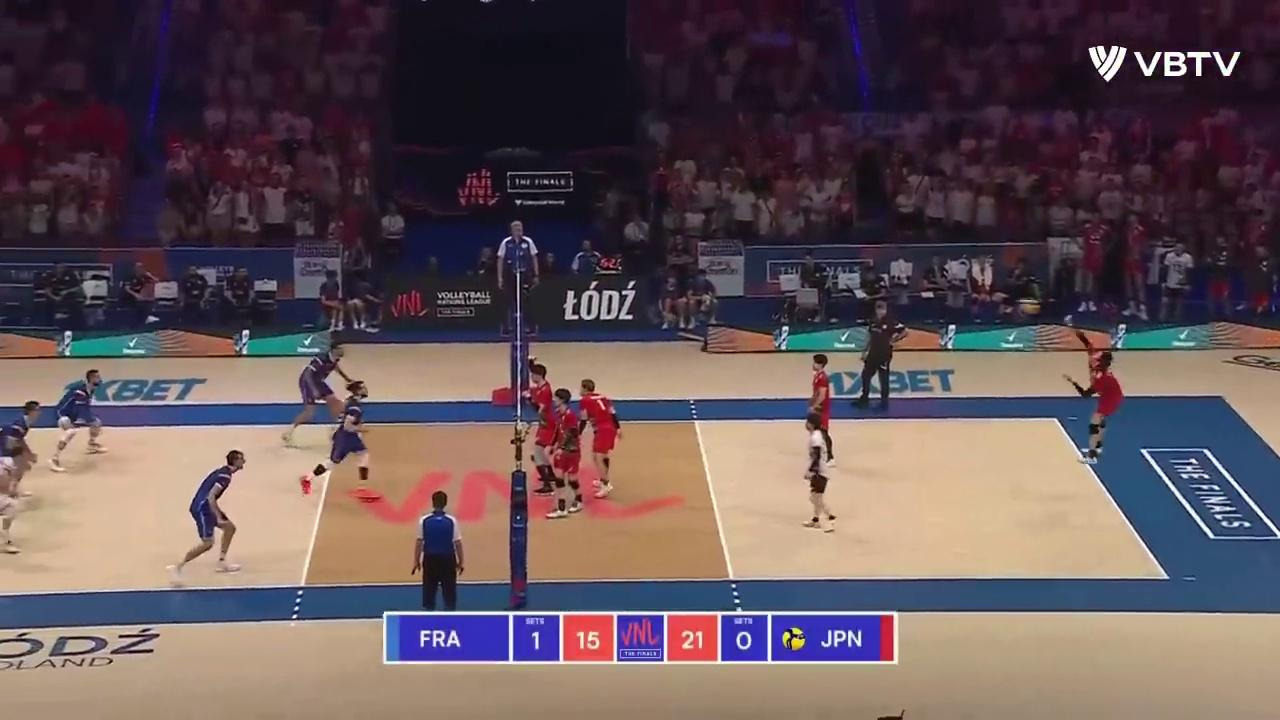ball: (1022, 299, 1041, 315)
